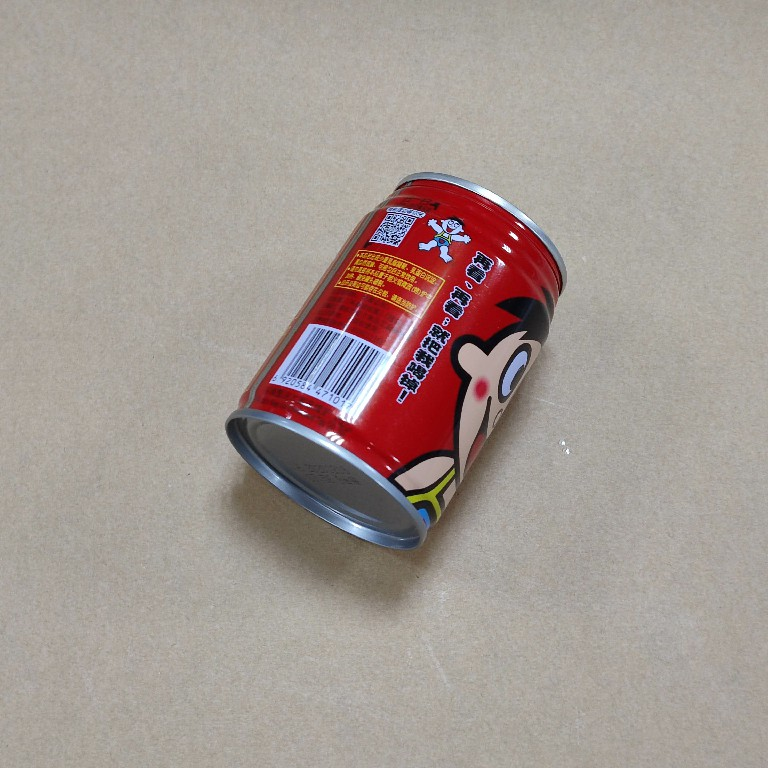can: (214, 168, 572, 561)
